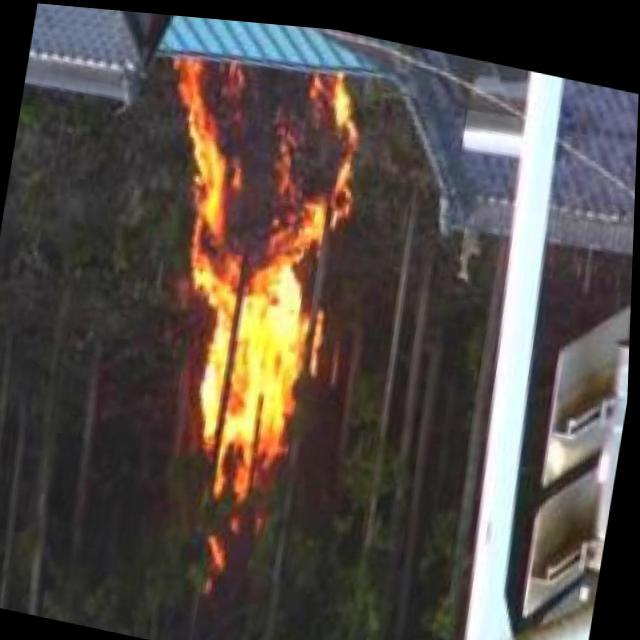fire: (134, 38, 370, 514)
